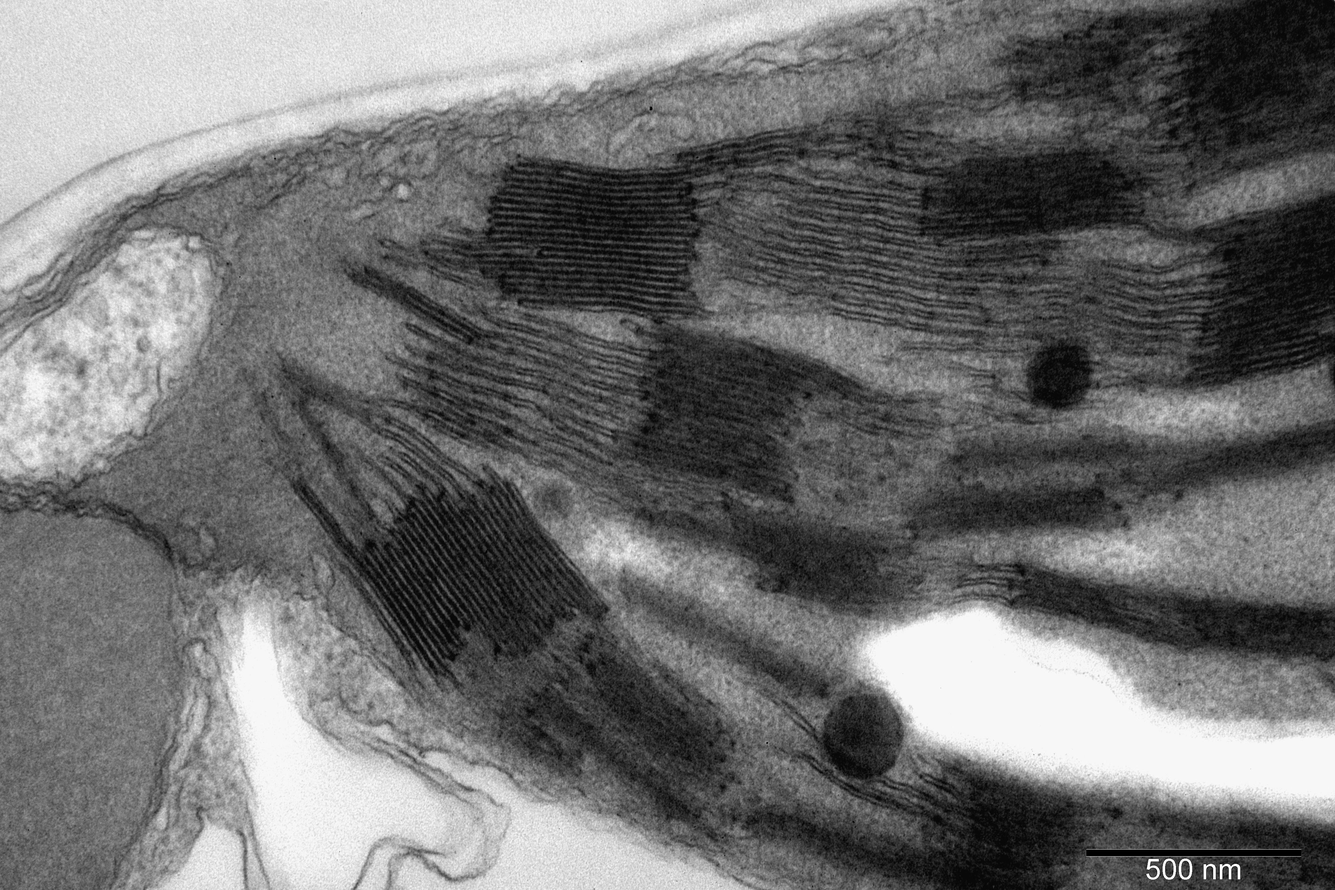granum: (345, 469, 613, 675), (441, 155, 703, 322), (624, 321, 832, 500), (1007, 561, 1331, 664), (1186, 0, 1335, 203), (1191, 189, 1335, 397), (623, 572, 830, 698), (574, 636, 731, 788), (726, 504, 928, 619), (920, 152, 1138, 250), (928, 771, 1079, 877), (1148, 416, 1335, 500), (1160, 805, 1334, 889), (905, 481, 1116, 538), (869, 834, 1064, 890), (355, 264, 483, 343), (671, 125, 806, 179)
